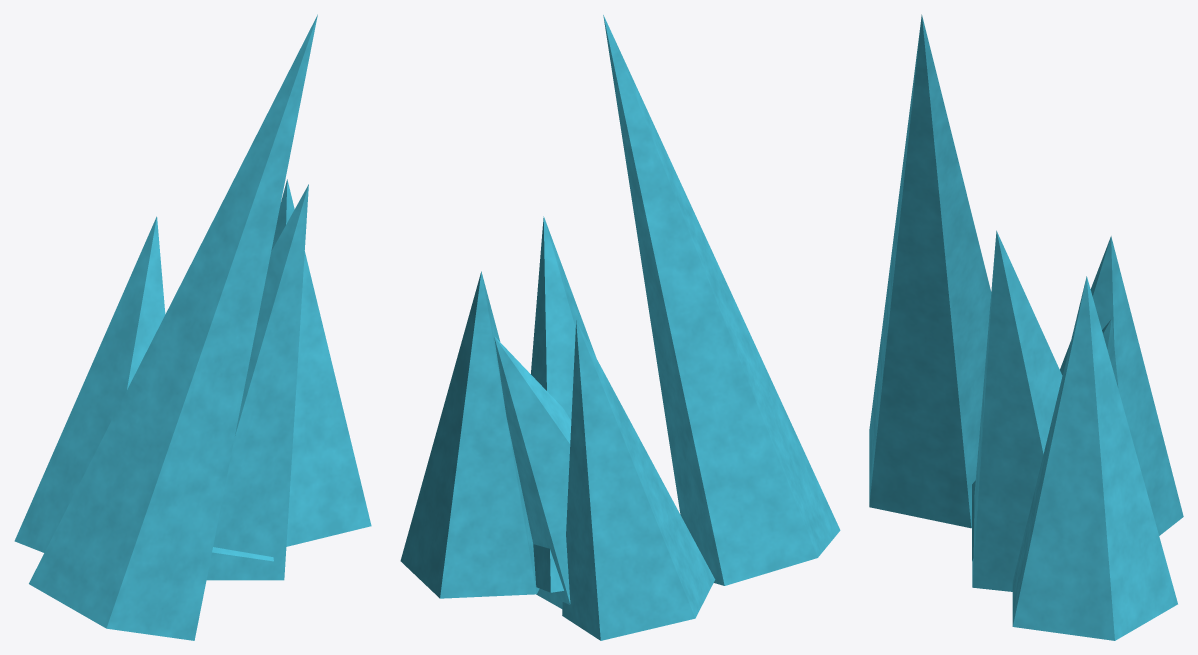
The model's file is crystal.fbx.
3 renders of one model, left to right at view 1: azimuth 30°, elevation 25°; view 2: azimuth 150°, elevation 25°; view 3: azimuth 270°, elevation 25°, orthographic. The views are drawn at different scales.
Parts seen in each view (by area): view 1: Crystal; view 2: Crystal; view 3: Crystal.
Part boxes in pixels (box(x1,y1,x2,y2)): Crystal: box(14, 14, 371, 640); Crystal: box(400, 15, 840, 640); Crystal: box(869, 14, 1183, 640).
Bounding box in the file's own units: 2.29 × 3.3 × 1.61.
1 material, 1 textured.
